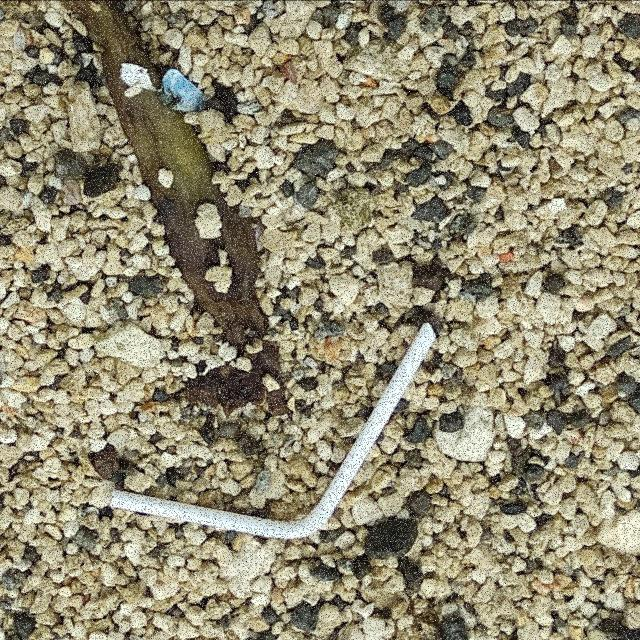plastic_waste: (108, 320, 440, 542)
